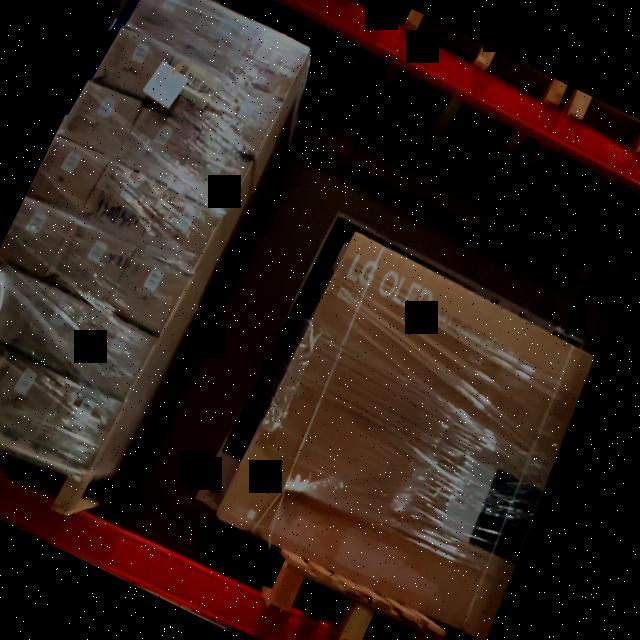box: (217, 233, 597, 631), (32, 378, 120, 473), (13, 285, 100, 377), (72, 312, 154, 402), (48, 222, 134, 306), (81, 160, 164, 246), (138, 191, 218, 275), (108, 250, 188, 334), (27, 134, 105, 216), (172, 136, 250, 214), (118, 106, 194, 186), (150, 52, 227, 130), (62, 81, 140, 157), (0, 351, 65, 442), (0, 195, 71, 278), (232, 23, 308, 100), (205, 78, 281, 154), (182, 0, 256, 75), (98, 27, 172, 100), (130, 0, 203, 50), (0, 259, 41, 345)
